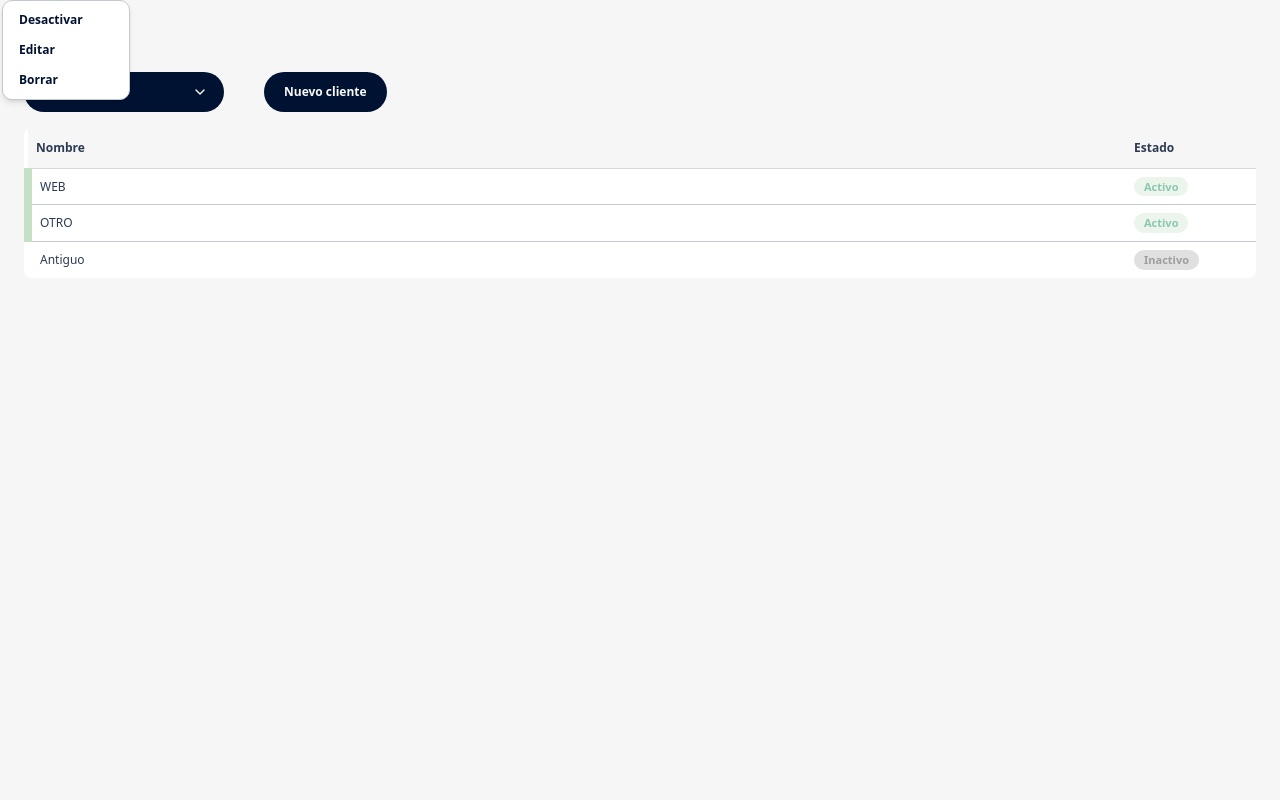
ClientesPage › editar envía nombre y updatedAt; un 409 muestra el aviso y recarga
The image size is (1280, 800).
Check: the text "OTRO" is shown, box [28,205,1126,241]
Click the menu item "Editar". click: coordinates (37, 50)
box: [19,41,55,58]
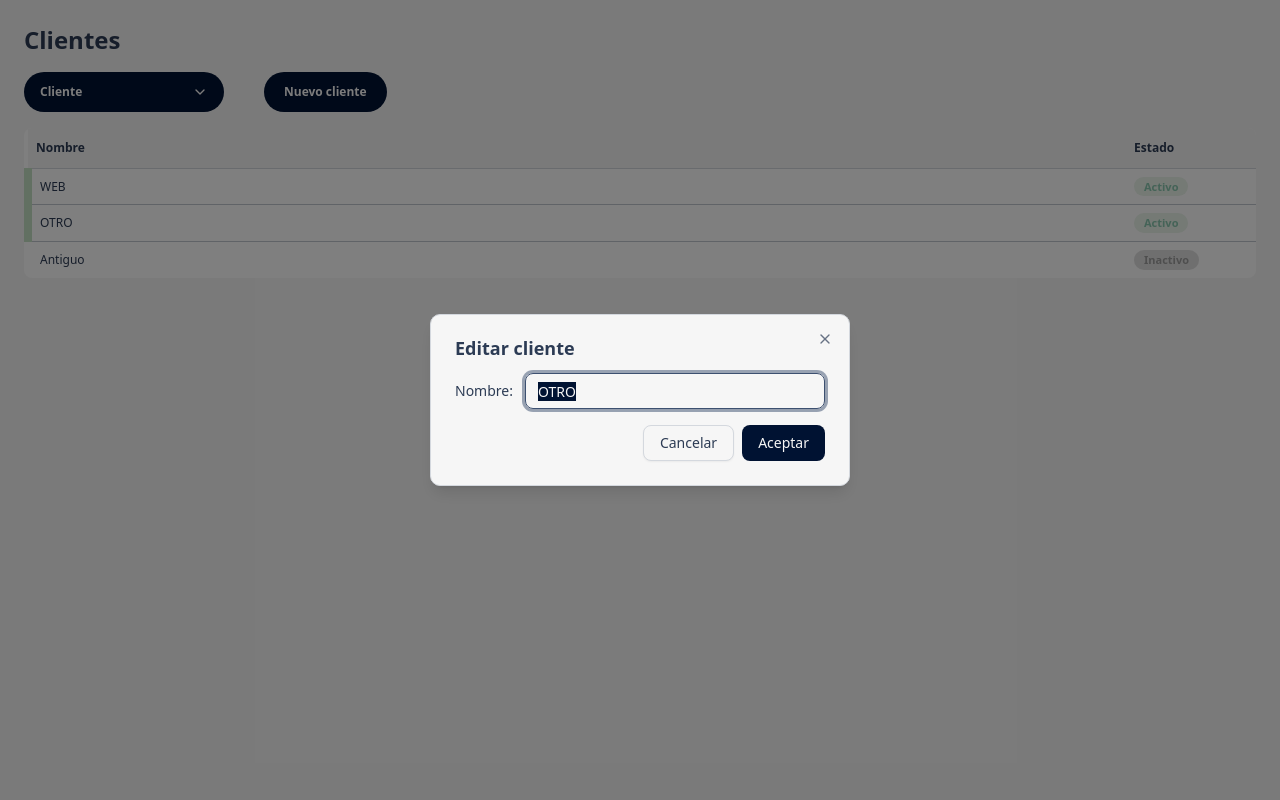
Check: the field labelled "Nombre:" holds "OTRO"
Replace the text in the field labelled "Nombre:" with "Otros". click: coordinates (675, 391)
box: [525,373,825,409]
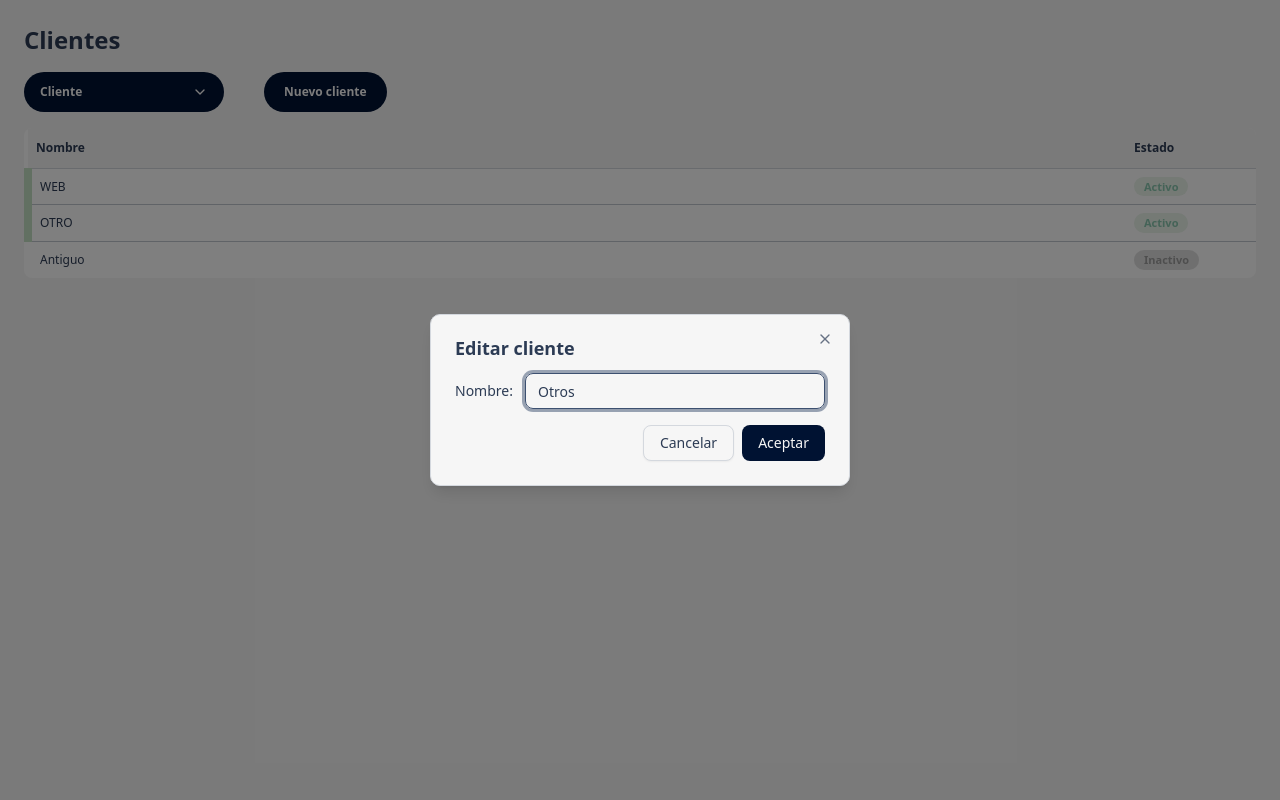
Click the button "Aceptar". click: coordinates (784, 443)
box: [742,425,825,461]
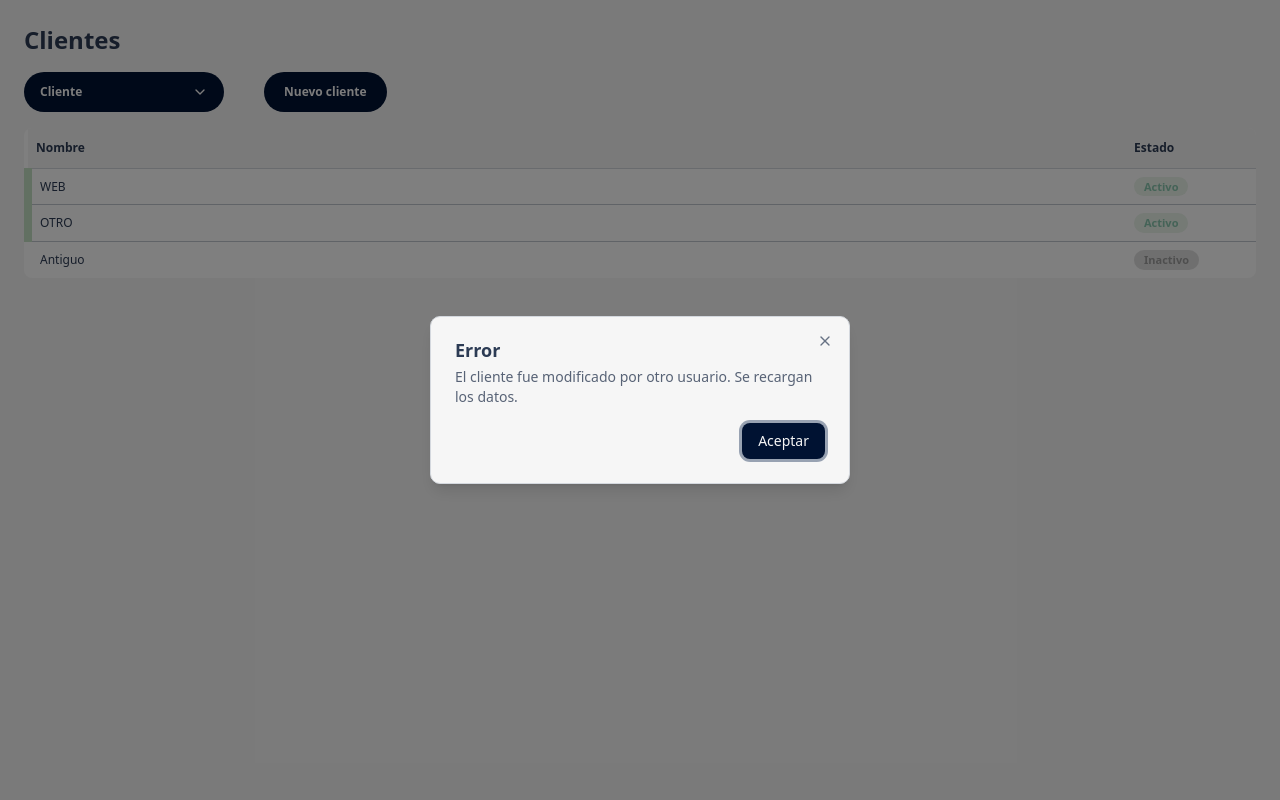
Check: the text "El cliente fue modificado por otro usuario. Se recargan los datos." is shown, box [455,367,825,407]
